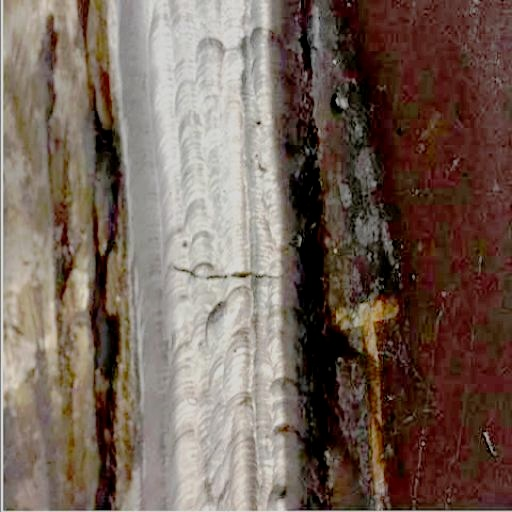crack: (164, 258, 286, 287)
